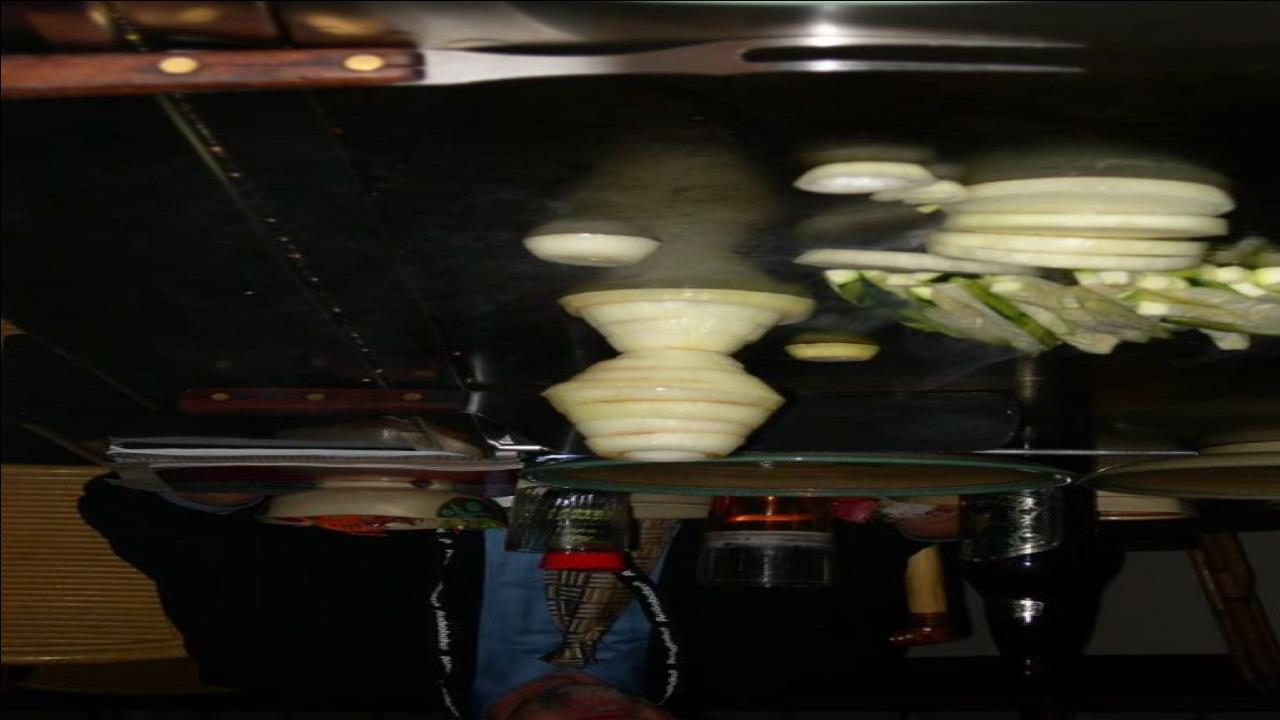fork: (0, 28, 1095, 90)
